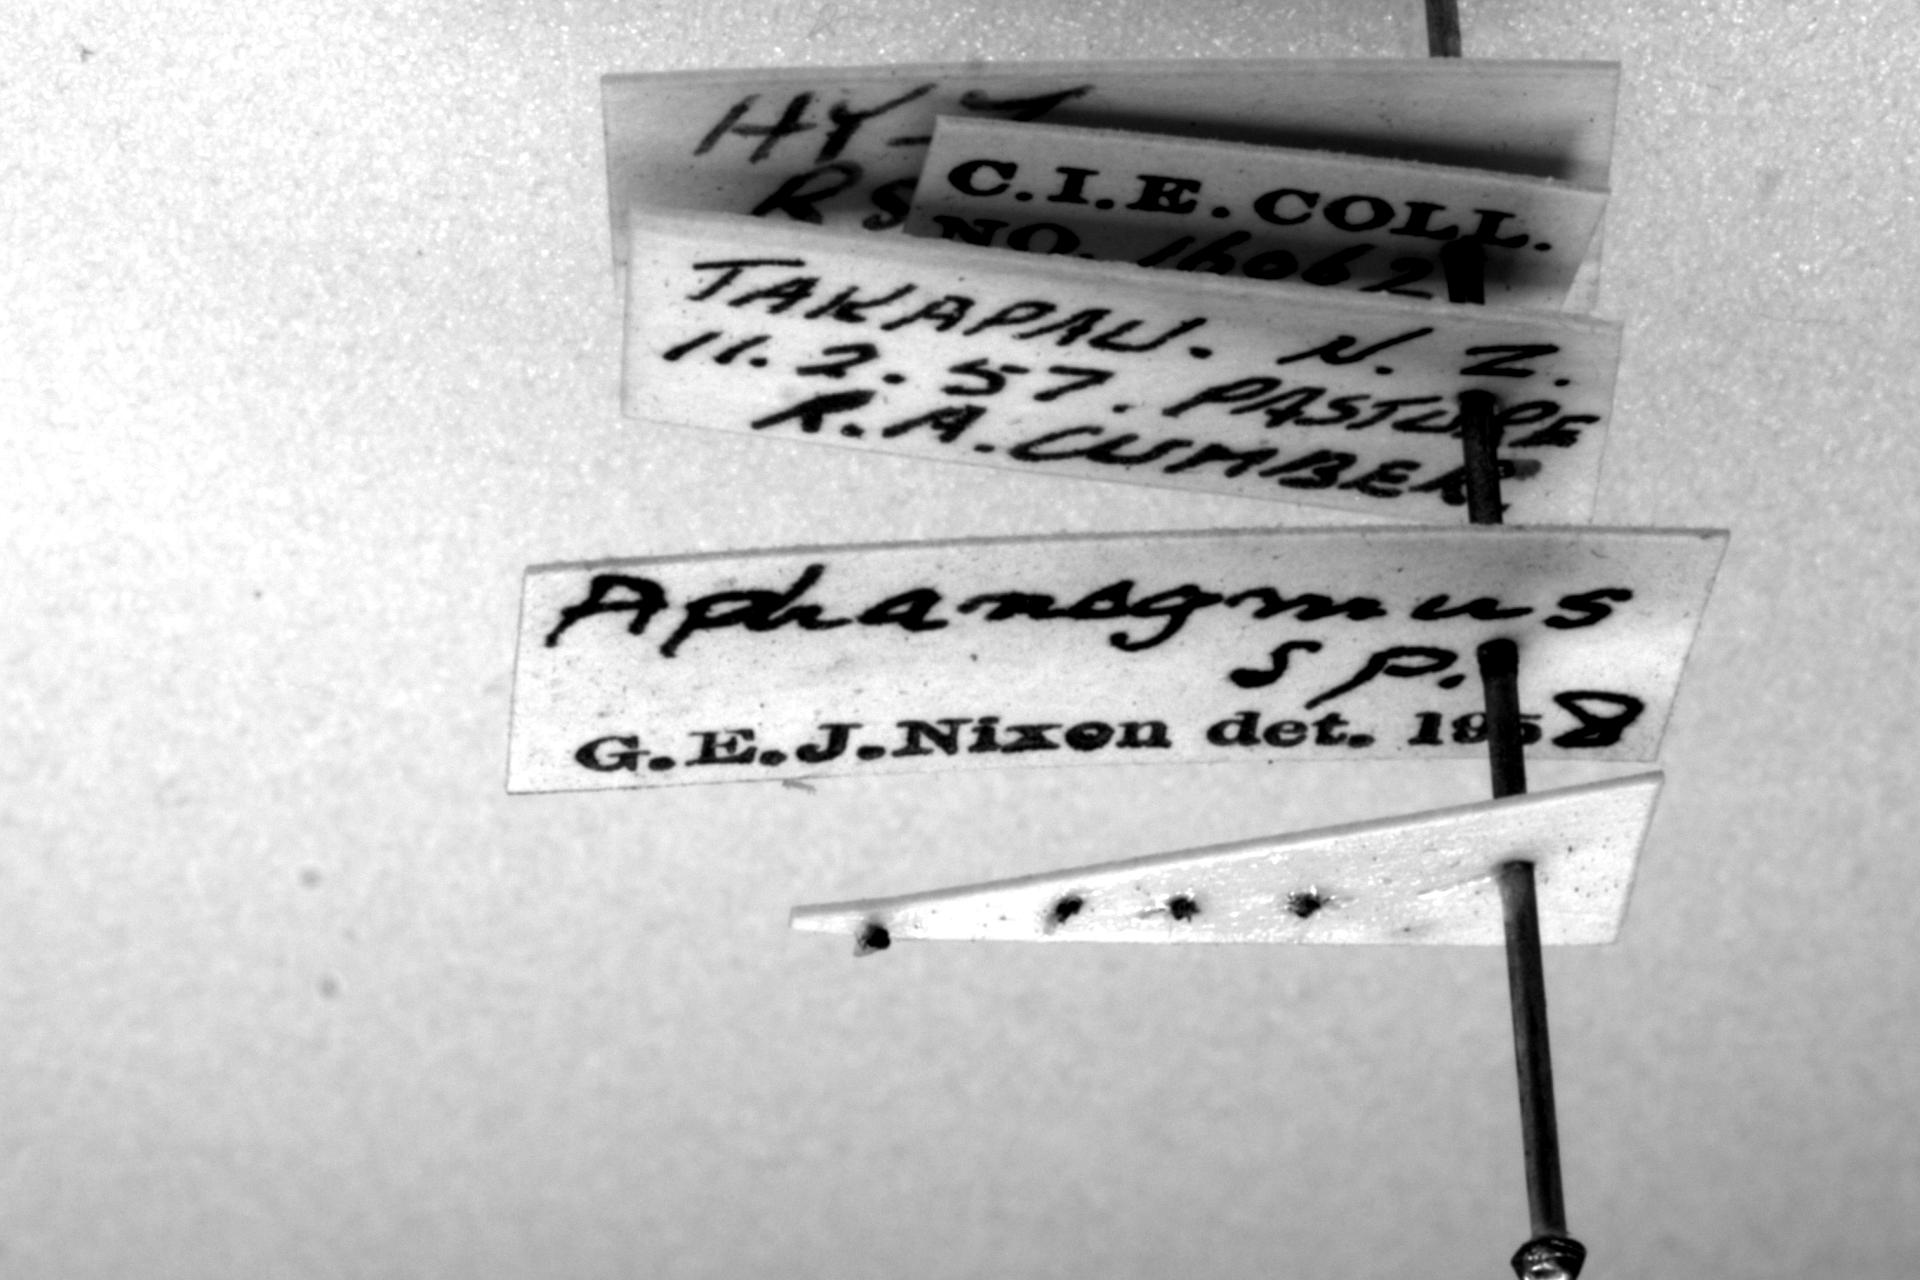hand_label: (623, 210, 1620, 526)
mixed_label: (506, 526, 1726, 791), (904, 116, 1606, 307)
